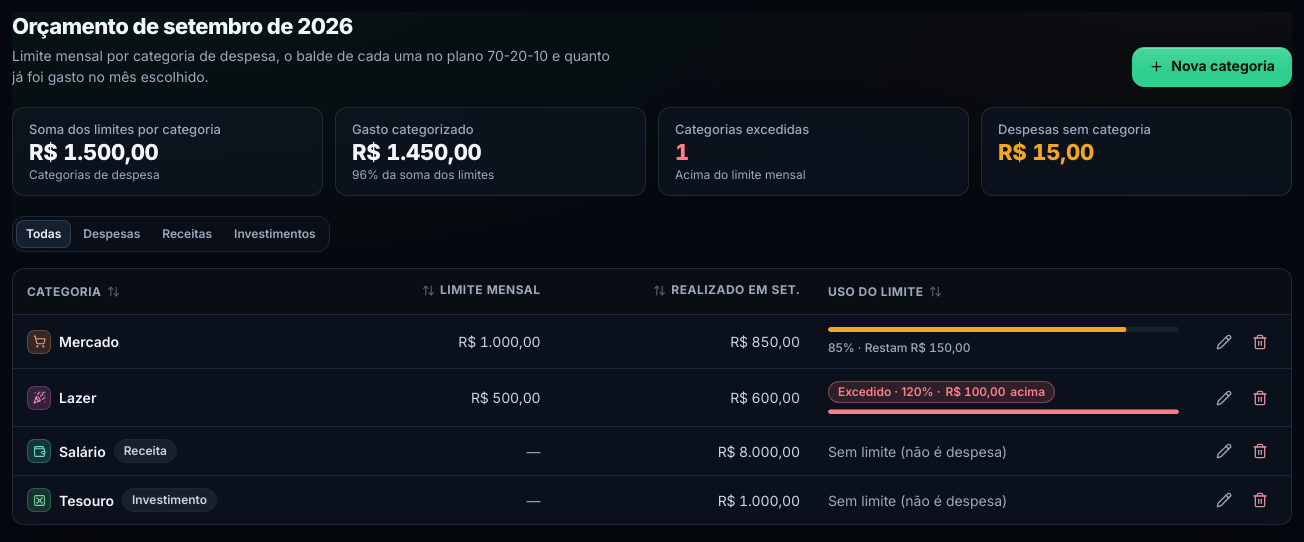
Scenario: MEL-11 · realizado de receitas e investimentos › mostra o valor recebido/aplicado no mês e adapta o rótulo ao filtro
The width and height of the screenshot is (1304, 542).
Expected: the cell "R$ 8.000,00" is shown, x1=554 y1=427 x2=814 y2=476
Expected: the cell "R$ 1.000,00" in the row of "Tesouro" is shown, x1=718 y1=492 x2=800 y2=509
What coordinates should you click on to do the following:
click the radio button labelled "Receitas"
I would click on:
 (187, 234)
Its box is x1=152 y1=220 x2=222 y2=248.
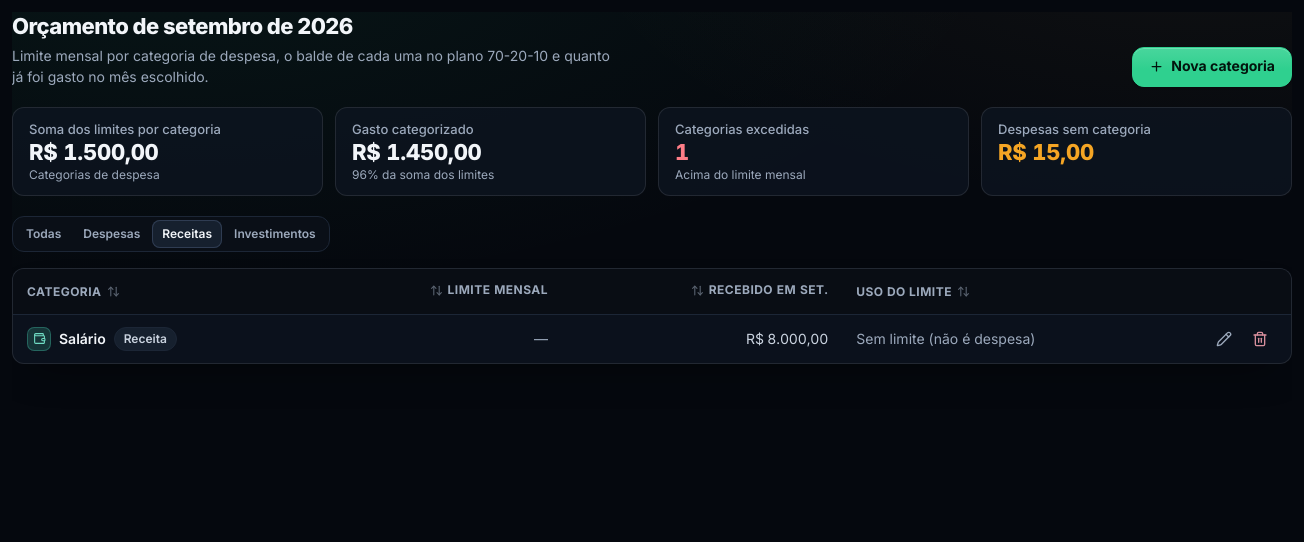
Now the column heading "Recebido em set." is shown, box x1=562 y1=269 x2=842 y2=314
What coordinates should you click on to do the following:
click the radio button labelled "Investimentos"
I would click on:
 (275, 234)
Its box is x1=224 y1=220 x2=326 y2=248.
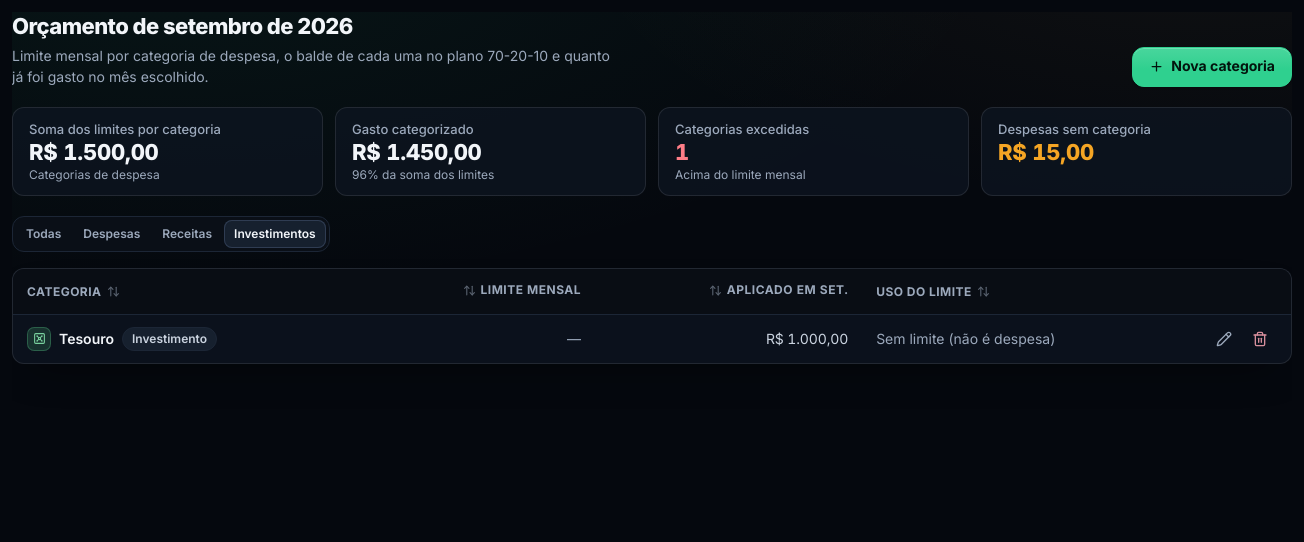
Now the column heading "Aplicado em set." is shown, box x1=595 y1=269 x2=862 y2=314
Now the text "Salário" is gone
What coordinates should you click on to do the following:
click the radio button labelled "Despesas"
I would click on:
 (112, 234)
Its box is x1=73 y1=220 x2=150 y2=248.
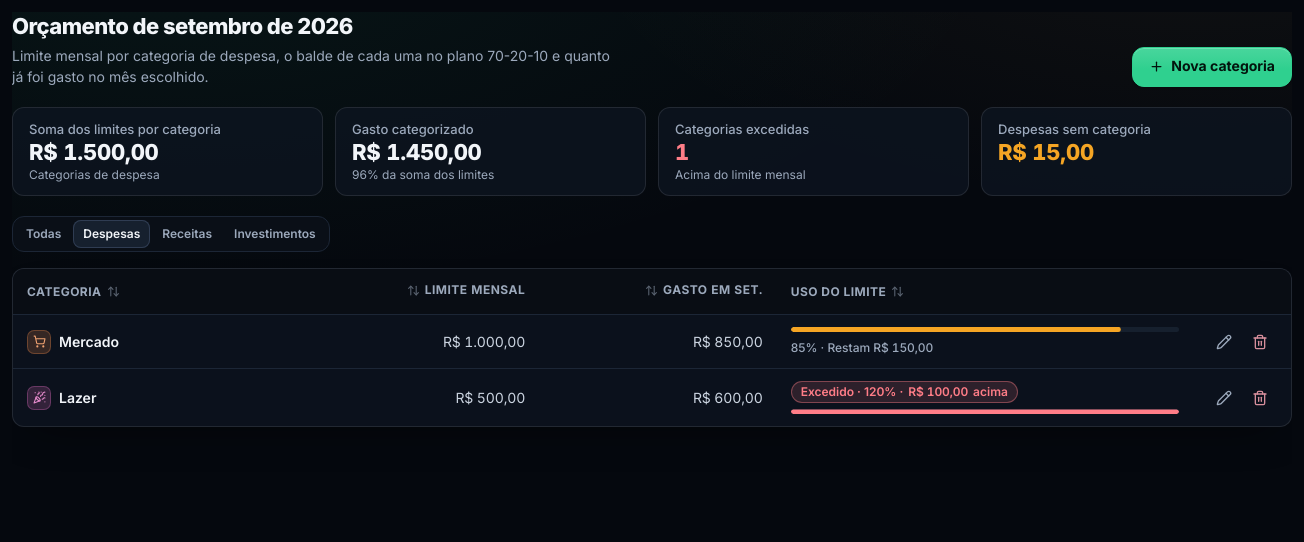
Now the column heading "Gasto em set." is shown, box x1=539 y1=269 x2=777 y2=314
